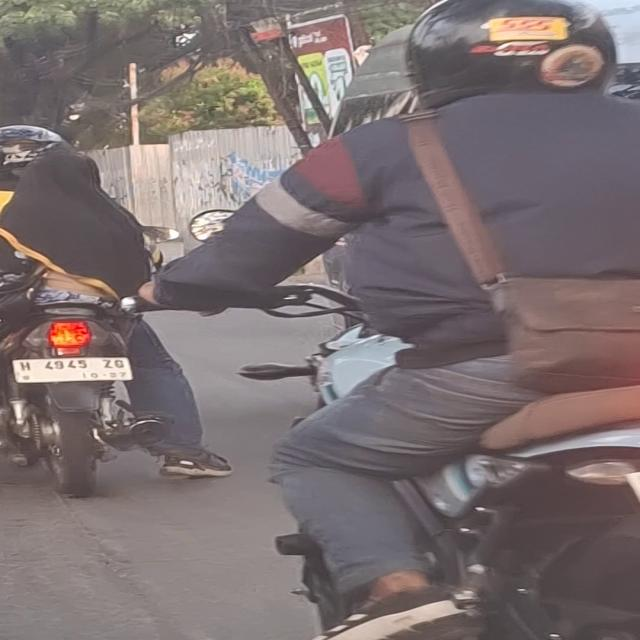WithHelmet: (136, 0, 640, 640), (0, 124, 233, 479)
